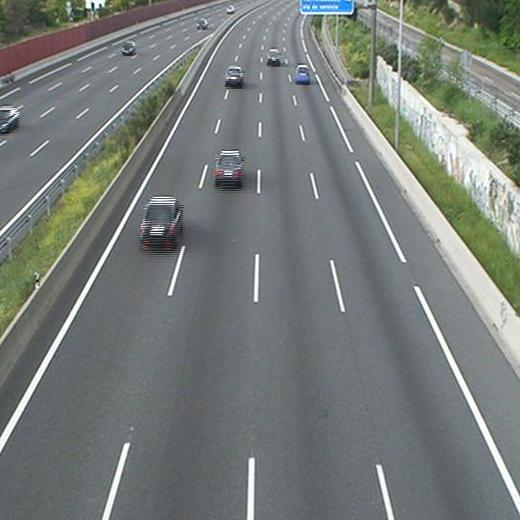car: (139, 198, 184, 246), (215, 151, 243, 179), (224, 66, 243, 85), (295, 66, 311, 83), (266, 49, 280, 64)
